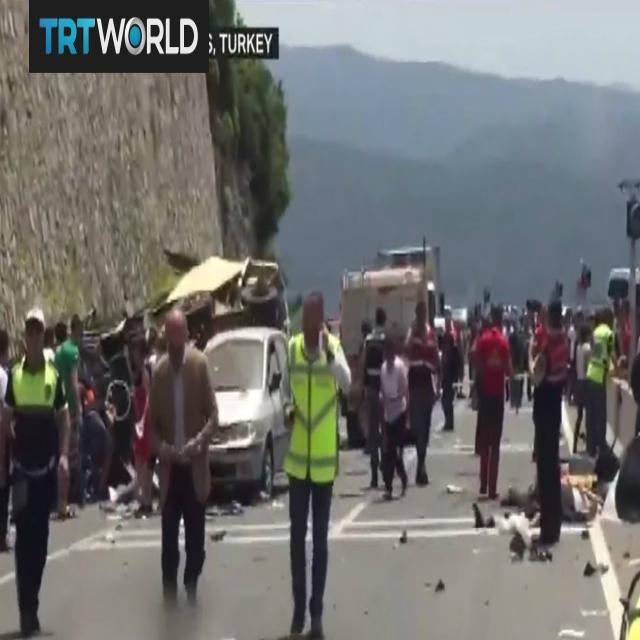Accident: (0, 240, 301, 505)
